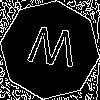W: (25, 25, 79, 77)
